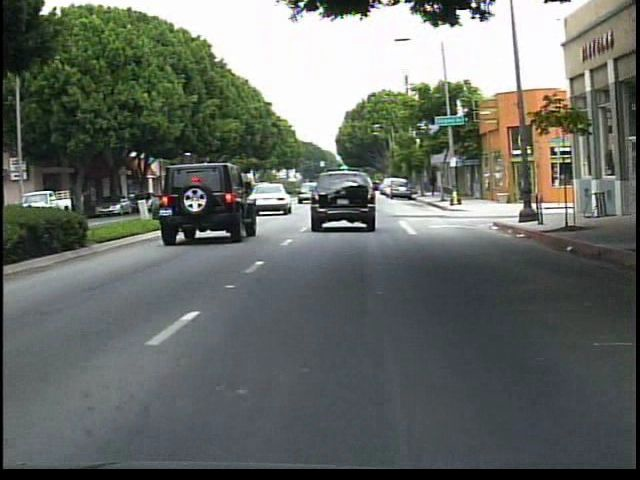person: (423, 165, 443, 201)
